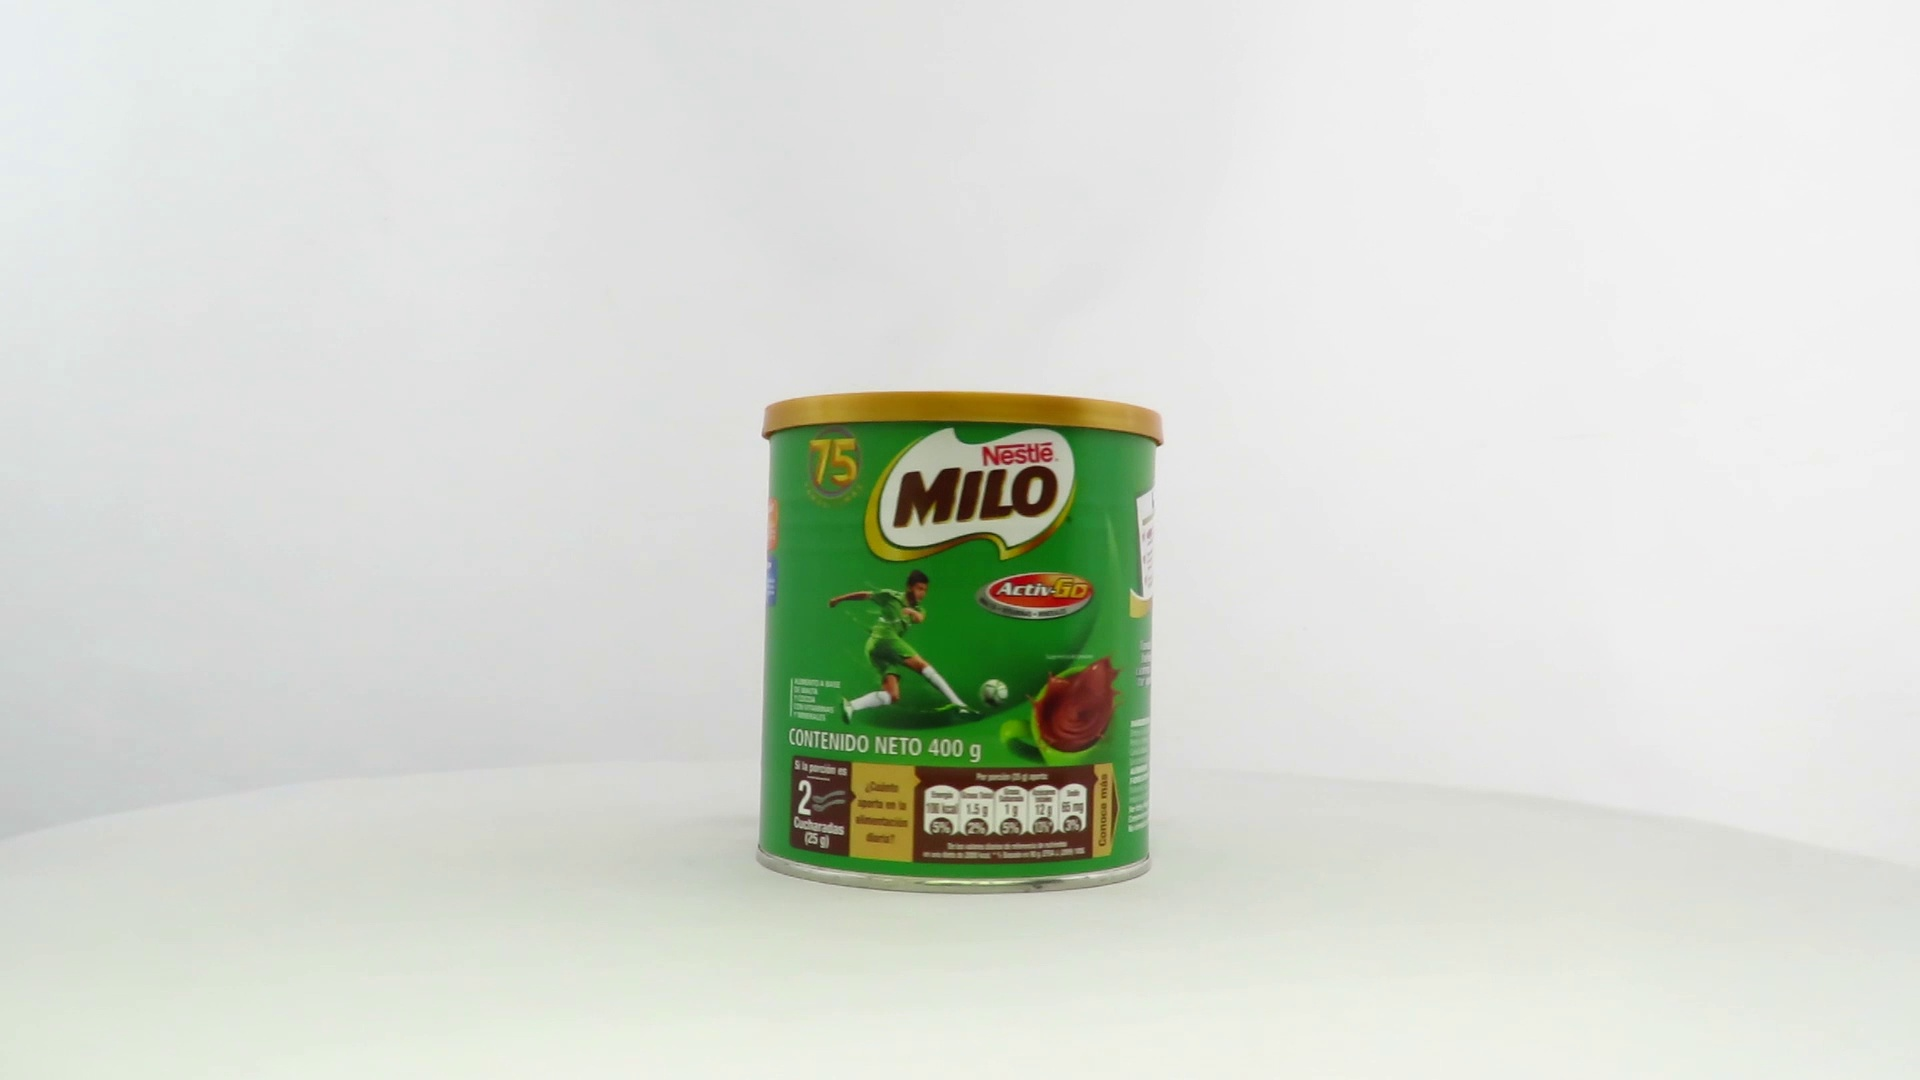COL0170203LAT40000: (750, 386, 1170, 901)
